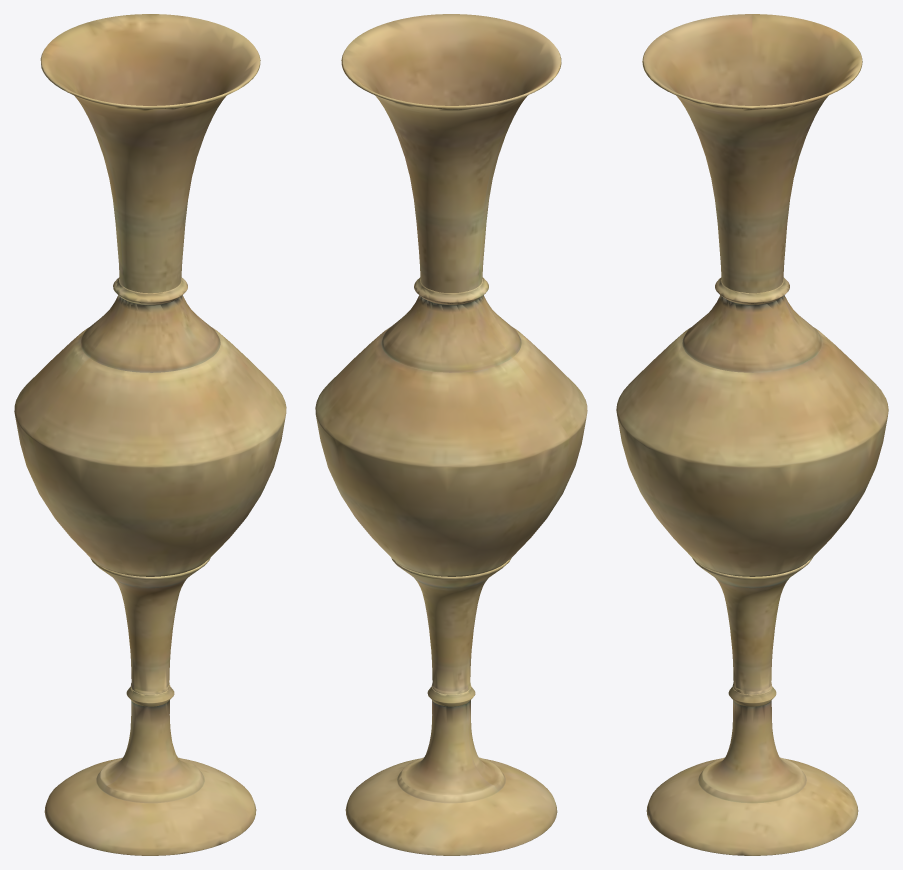
Rendered from brass-vase.glb.
3 views of the same model, side by side, from view 1: azimuth 30°, elevation 25°; view 2: azimuth 150°, elevation 25°; view 3: azimuth 270°, elevation 25° (orthographic).
Visible parts, largest first — view 1: brass_vase_01; view 2: brass_vase_01; view 3: brass_vase_01.
Part boxes in pixels (left/top/right/bottom): brass_vase_01: left=14, top=14, right=286, bottom=855; brass_vase_01: left=315, top=14, right=587, bottom=855; brass_vase_01: left=616, top=14, right=888, bottom=855.
Size of the model in its own units: 0.2273 by 0.6925 by 0.2273.
Materials: 1 (1 with a texture image).
